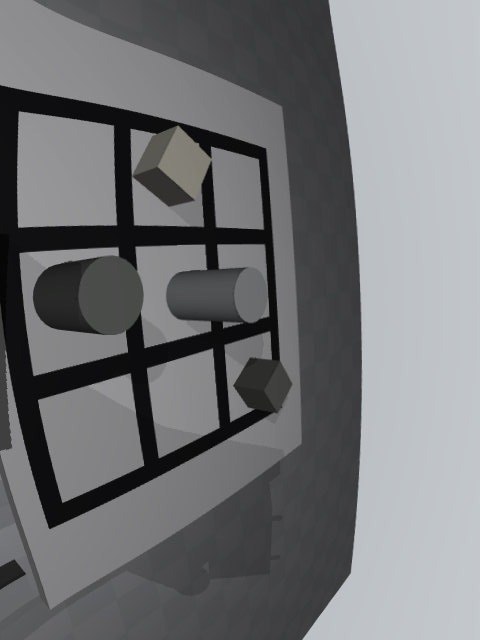can: (166, 267, 268, 322)
cube: (233, 357, 292, 414)
cylinder: (33, 255, 144, 335)
foam: (132, 126, 212, 207)
